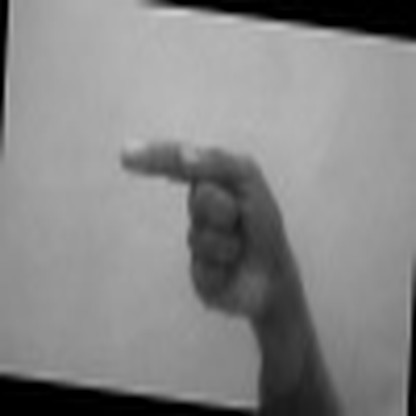g: (89, 131, 323, 316)
